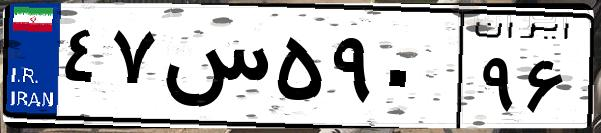0: (385, 28, 445, 110)
4: (57, 26, 110, 100)
5: (270, 28, 330, 110)
6: (525, 38, 570, 115)
7: (110, 28, 158, 98)
9: (330, 28, 385, 110), (475, 38, 525, 113)
س: (158, 20, 270, 120)
